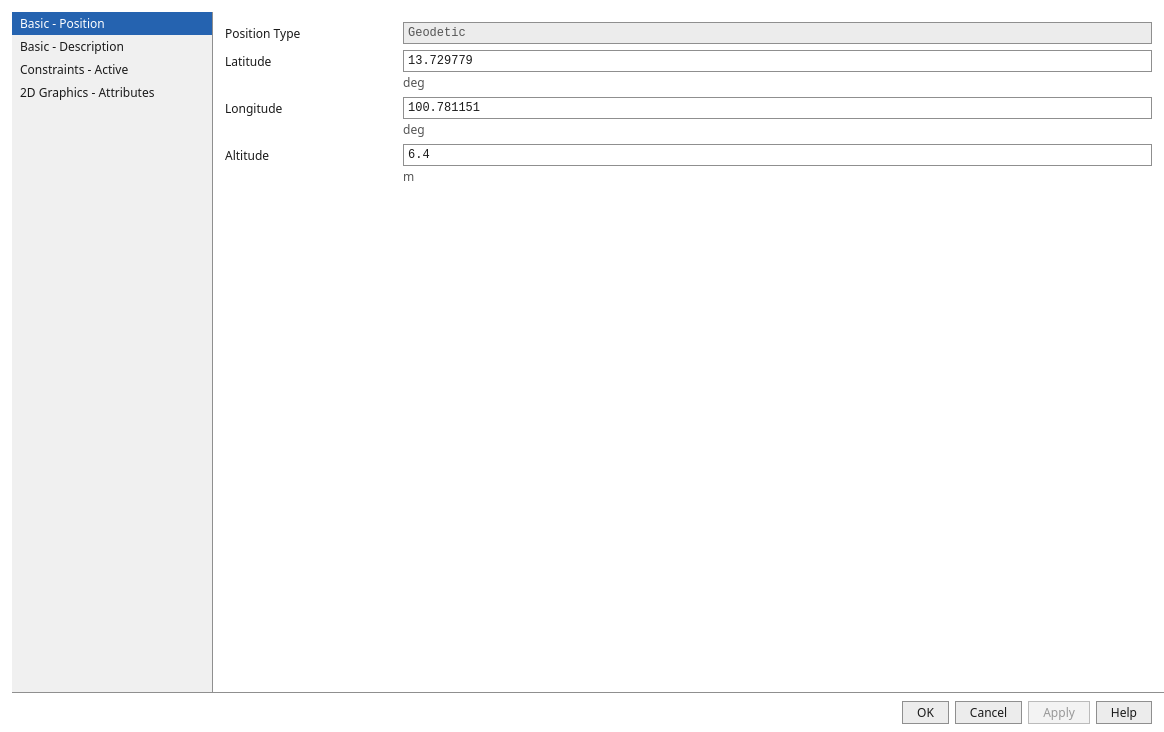
Test: a server 422 › another kind of failure goes to the Message Viewer and the edits stay
Click the tab "Constraints - Active" at point(112, 70), box [12,58,212,81]
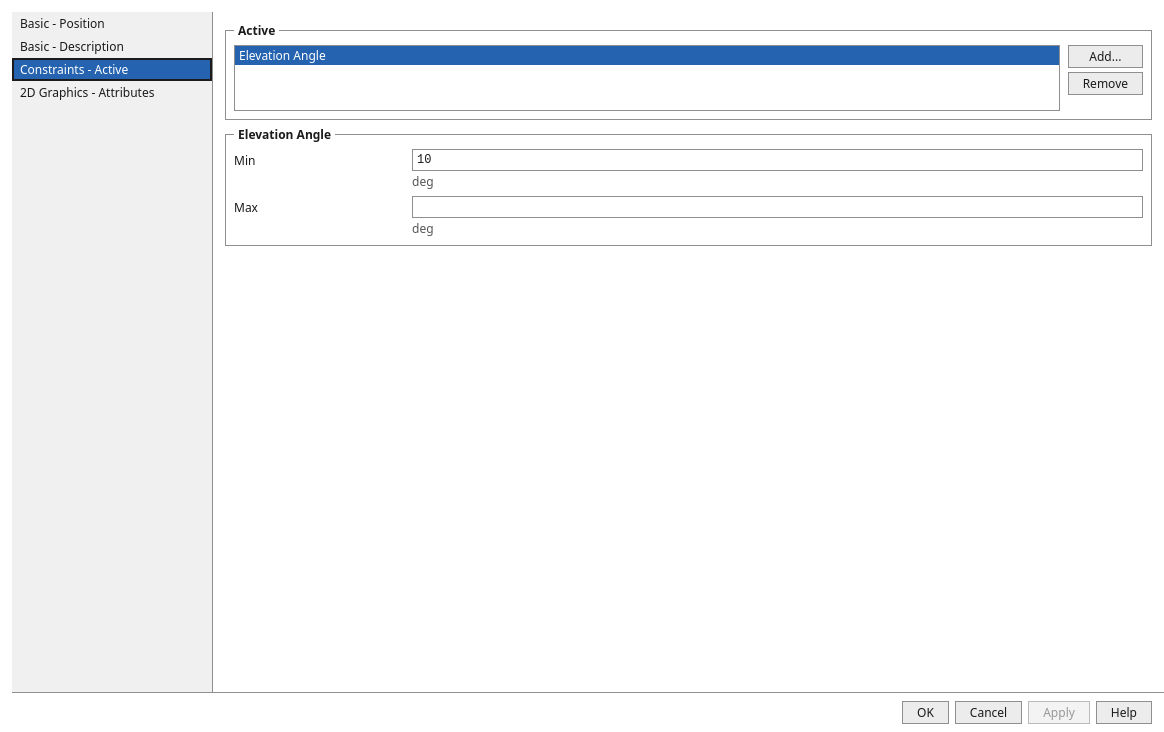
Replace the text in the field labelled "Min" with "15" at point(778, 160), box [412,149,1143,171]
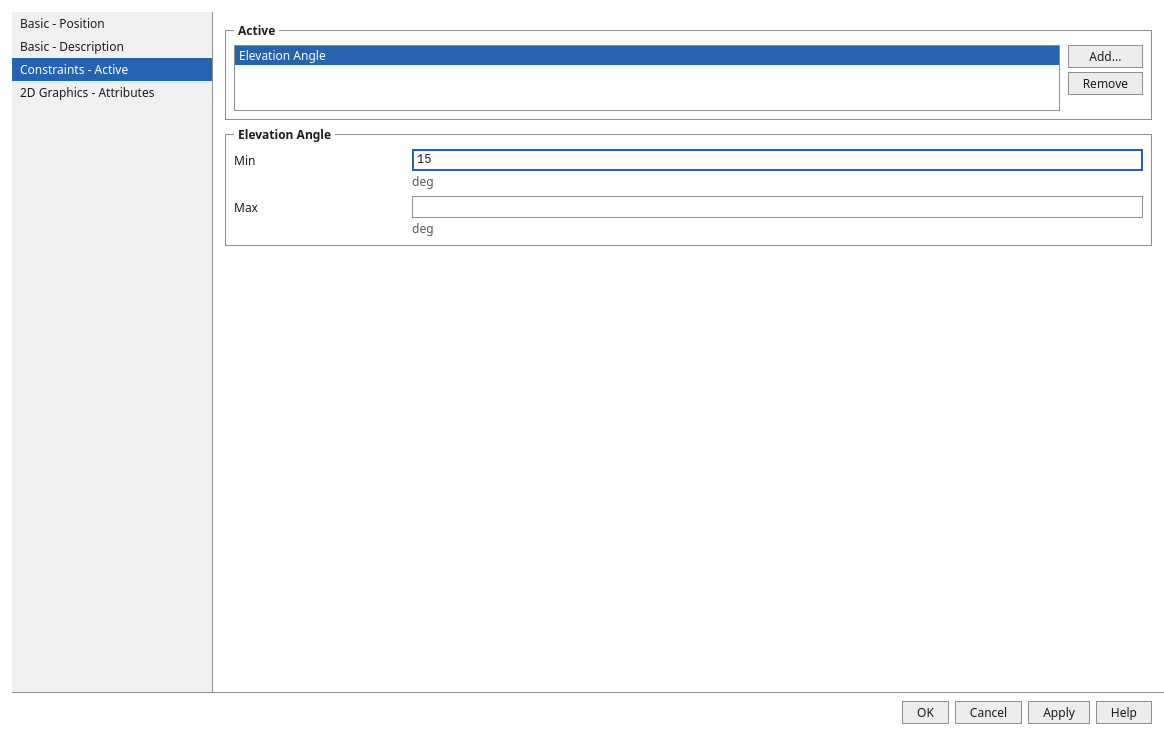
Click the button "Apply" at point(1059, 712), box [1028,701,1090,724]
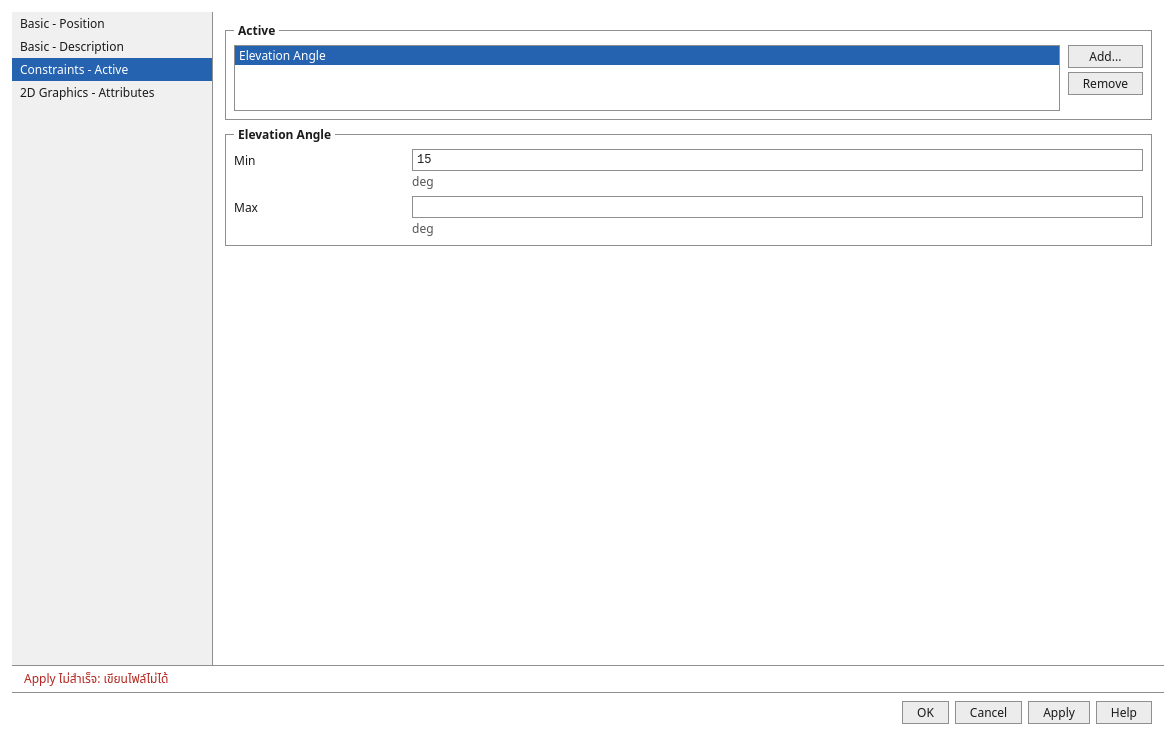
Result: the message shows "เขียนไฟล์ไม่ได้" at [24,670,168,687]
